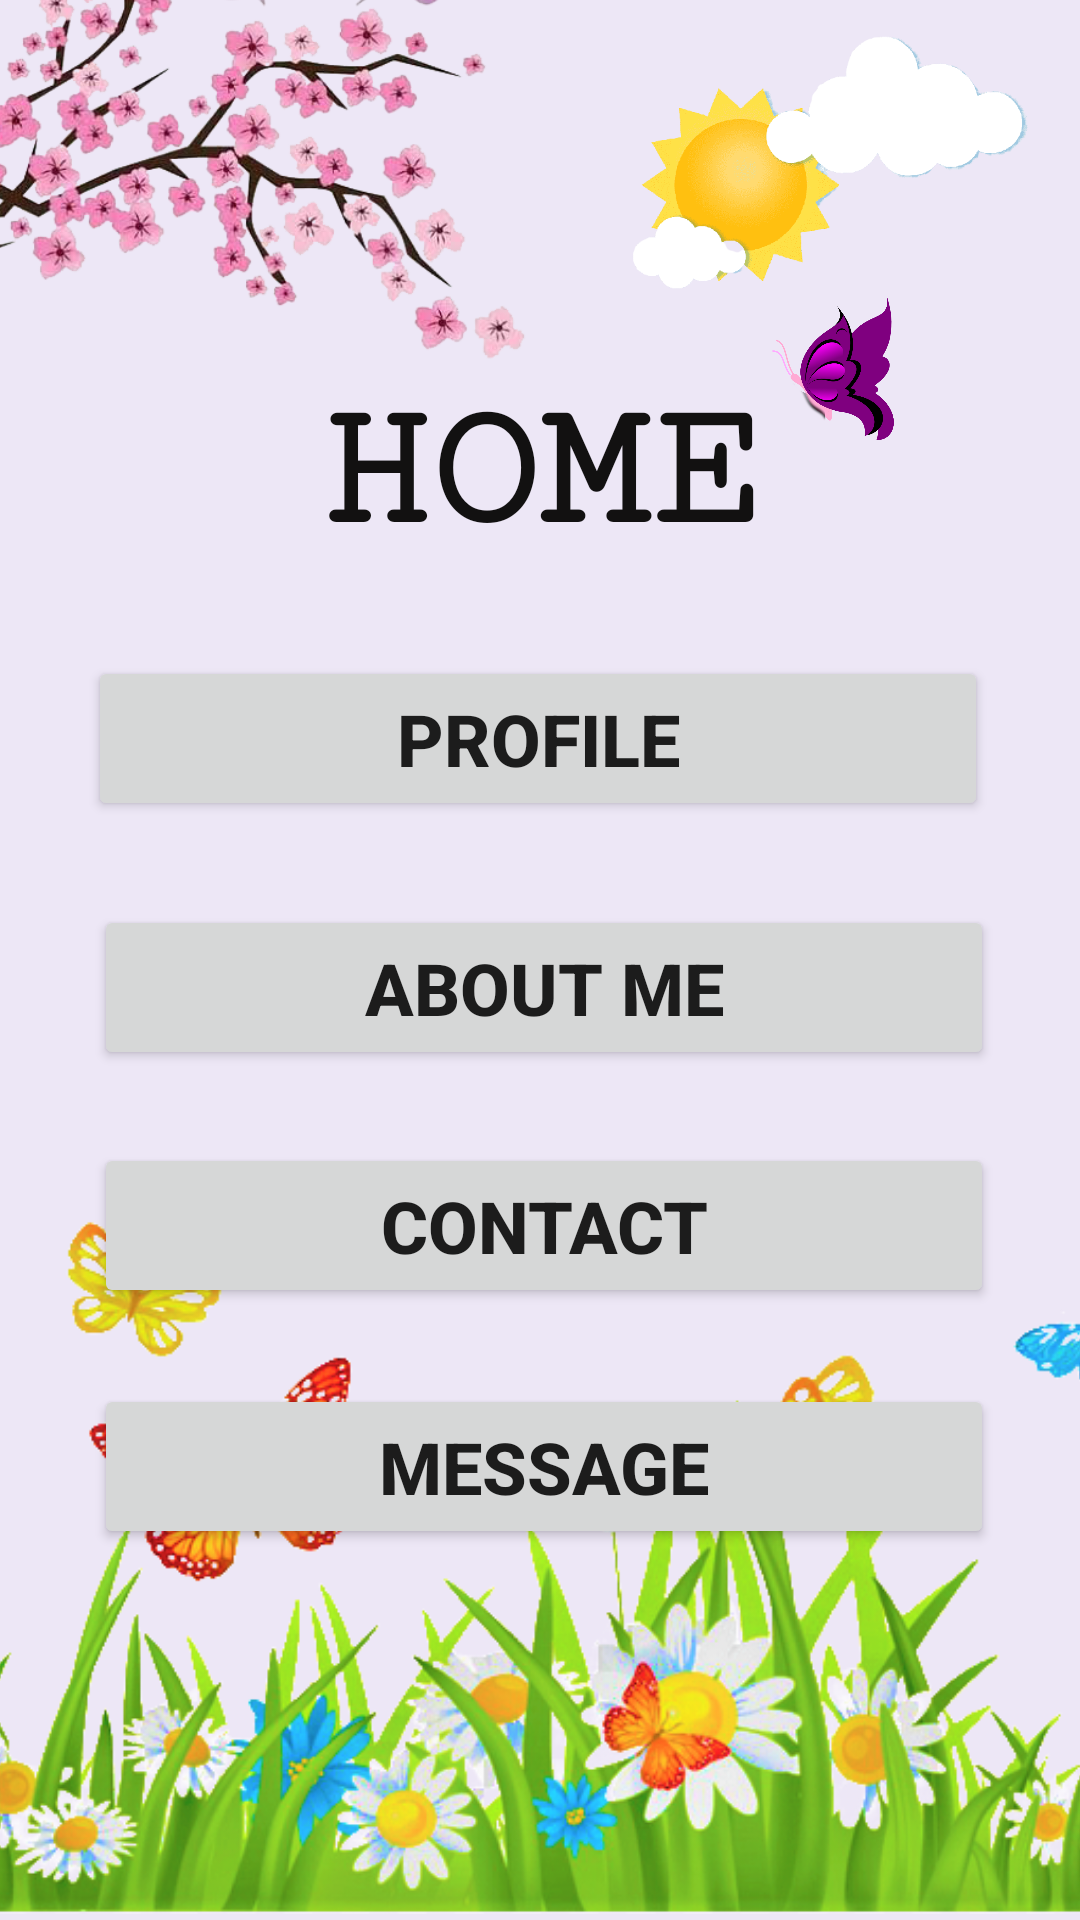

Icons on this 1080×1920 Android screen, each with its box as (left=x1, top=y1, right=x2, bottom=y2):
kupu: (left=772, top=298, right=894, bottom=440)
